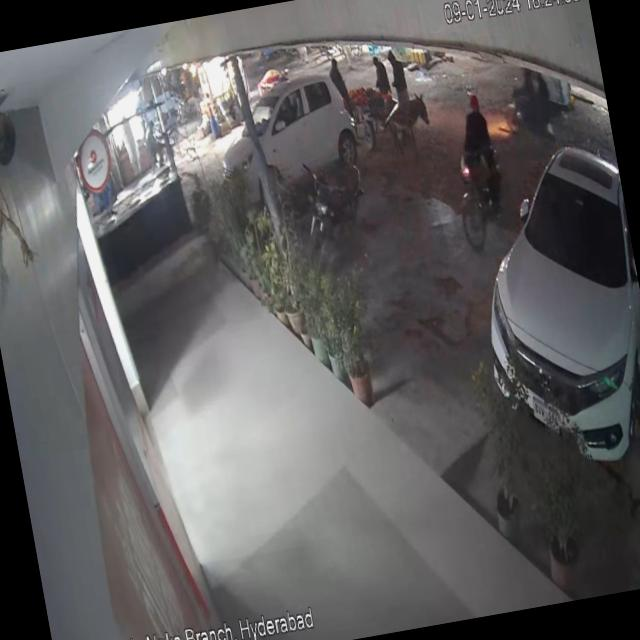Car: (447, 94, 640, 491), (186, 55, 366, 199)
Motorcycle: (442, 108, 515, 260), (294, 143, 375, 259)
